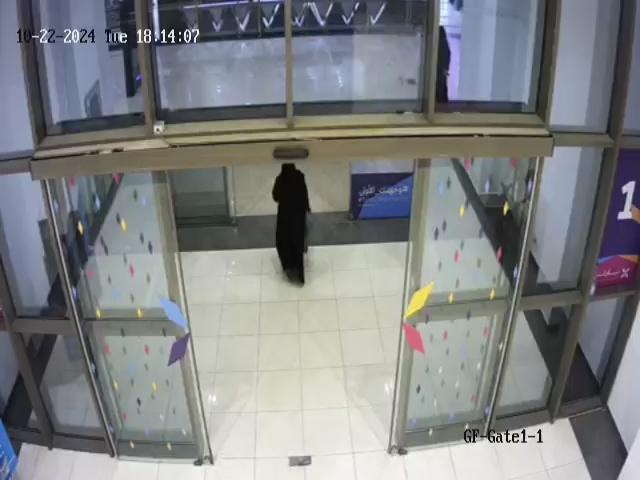female: (271, 163, 311, 287)
